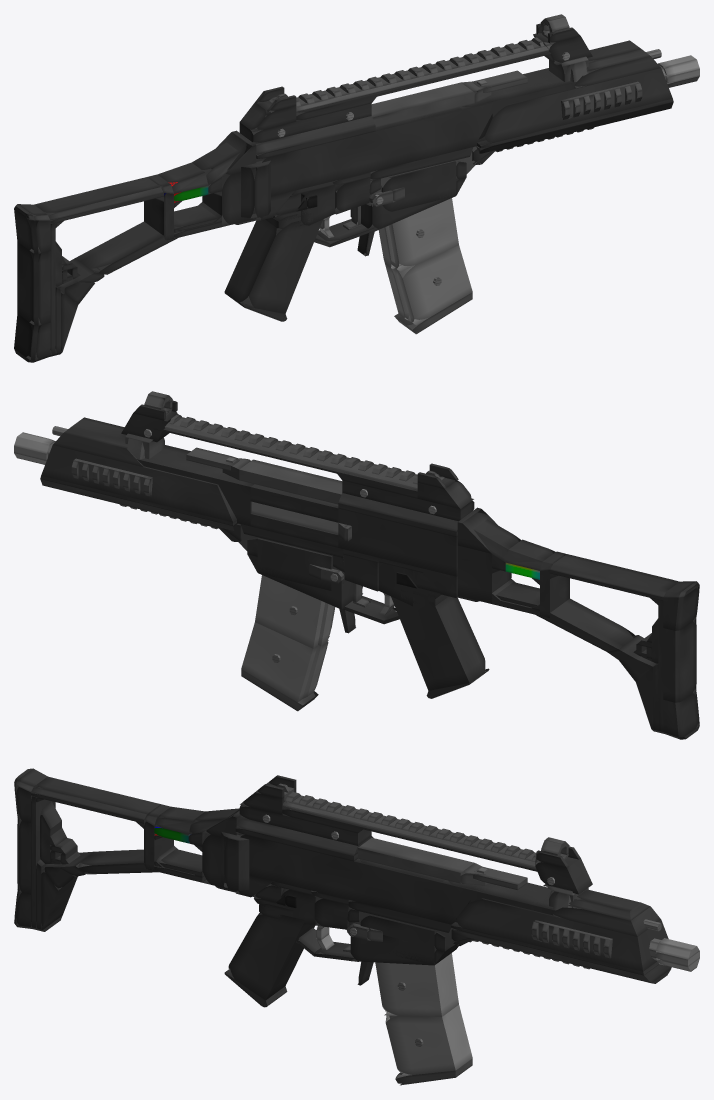
3 views of the same model, one above another, from view 1: azimuth 30°, elevation 25°; view 2: azimuth 150°, elevation 25°; view 3: azimuth 330°, elevation 25° (orthographic).
Parts seen in each view (by area): view 1: gunModel8, defaultGripModel0, gunModel23, ammoModel1, ammoModel0, gunModel85, defaultStockModel12, defaultStockModel16, gunModel14, gunModel61, gunModel44, defaultStockModel39 (+33 smaller); view 2: defaultGripModel0, gunModel23, gunModel109, ammoModel1, ammoModel0, gunModel85, gunModel14, defaultStockModel12, defaultStockModel16, gunModel61, defaultStockModel0, gunModel110 (+37 smaller); view 3: gunModel8, gunModel23, defaultGripModel0, ammoModel1, ammoModel0, gunModel85, defaultStockModel16, gunModel61, gunModel15, gunModel44, gunModel14, defaultStockModel39 (+30 smaller).
Boxes of the visible parts, box(x1,y1,x2,y2) form: gunModel8: box(256, 70, 577, 196); defaultGripModel0: box(224, 219, 322, 313); gunModel23: box(477, 68, 672, 145); ammoModel1: box(384, 245, 472, 325); ammoModel0: box(378, 198, 458, 271); gunModel85: box(371, 82, 474, 127); defaultStockModel12: box(76, 221, 178, 274); defaultStockModel16: box(34, 177, 163, 220); gunModel14: box(381, 161, 456, 211); gunModel61: box(296, 40, 554, 111); gunModel44: box(239, 103, 371, 144); defaultStockModel39: box(241, 160, 270, 218); defaultGripModel0: box(391, 596, 488, 690); gunModel23: box(41, 445, 236, 522); gunModel109: box(338, 508, 457, 576); ammoModel1: box(241, 622, 328, 702); ammoModel0: box(255, 575, 335, 648); gunModel85: box(239, 459, 342, 504); gunModel14: box(257, 538, 332, 590); defaultStockModel12: box(536, 598, 635, 651); defaultStockModel16: box(550, 554, 679, 597); gunModel61: box(165, 417, 417, 488); defaultStockModel0: box(457, 545, 511, 603); gunModel110: box(136, 448, 254, 526); gunModel8: box(240, 828, 555, 924); gunModel23: box(451, 898, 668, 971); defaultGripModel0: box(225, 912, 314, 1000); ammoModel1: box(385, 1005, 472, 1076); ammoModel0: box(375, 953, 458, 1016); gunModel85: box(358, 838, 474, 883); defaultStockModel16: box(31, 776, 160, 819); gunModel61: box(283, 795, 540, 866); gunModel15: box(350, 935, 435, 965); gunModel44: box(239, 805, 371, 845); gunModel14: box(360, 914, 435, 965); defaultStockModel39: box(221, 832, 249, 890).
Bounding box in the file's own units: 19.6 × 7.65 × 1.7.
